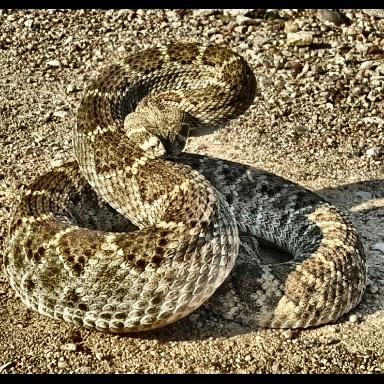snake: (7, 43, 366, 337)
